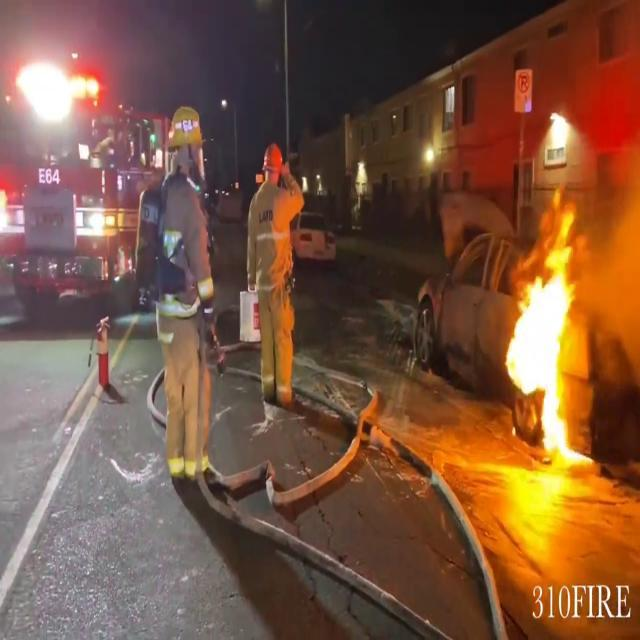Fire: (500, 232, 588, 470)
Smoke: (581, 134, 640, 366)
